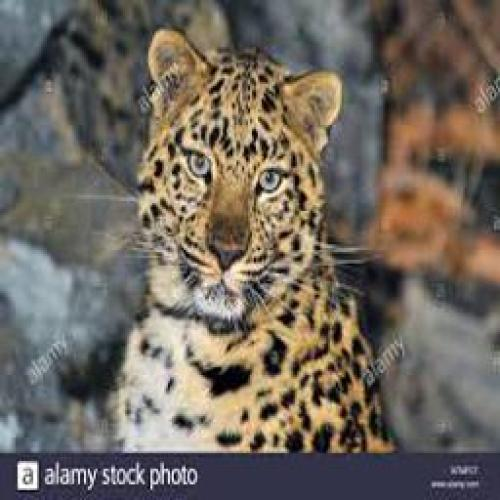amur_leopard-endangered: (116, 29, 397, 450)
